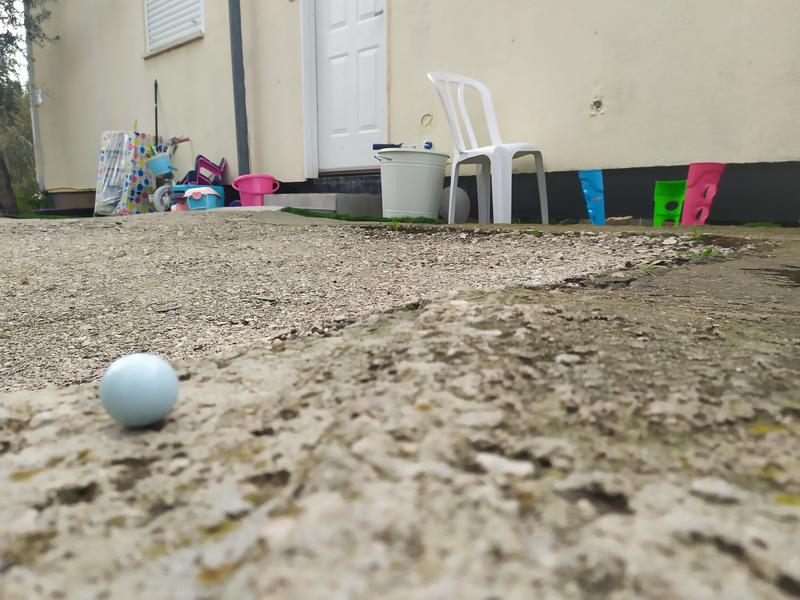Warning: (97, 350, 181, 431)
